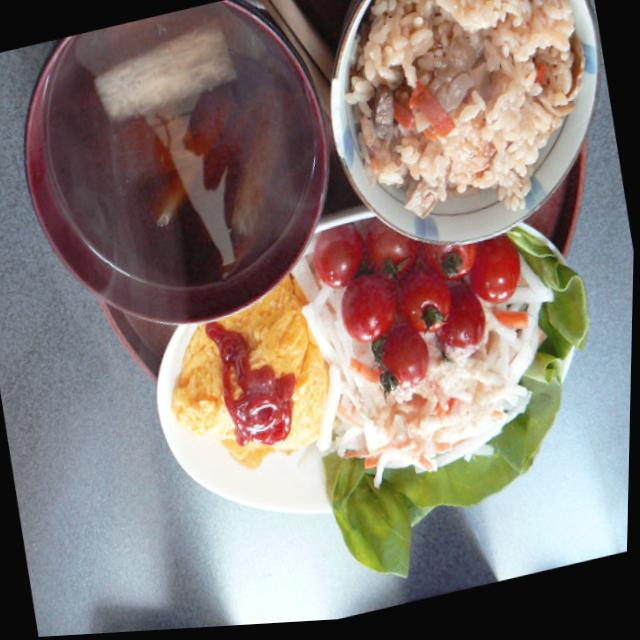米饭主食: (300, 0, 632, 282)
蔬菜料理: (4, 0, 350, 363)
鸡蛋料理: (148, 240, 346, 508)
